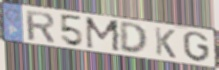5: (59, 13, 86, 48)
D: (119, 22, 150, 56)
G: (182, 31, 212, 64)
K: (153, 26, 178, 60)
M: (84, 16, 122, 54)
R: (24, 9, 56, 44)
